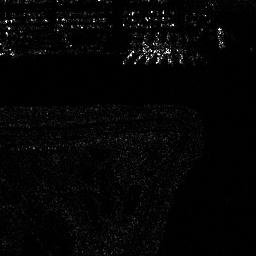ship: (216, 27, 226, 50)
